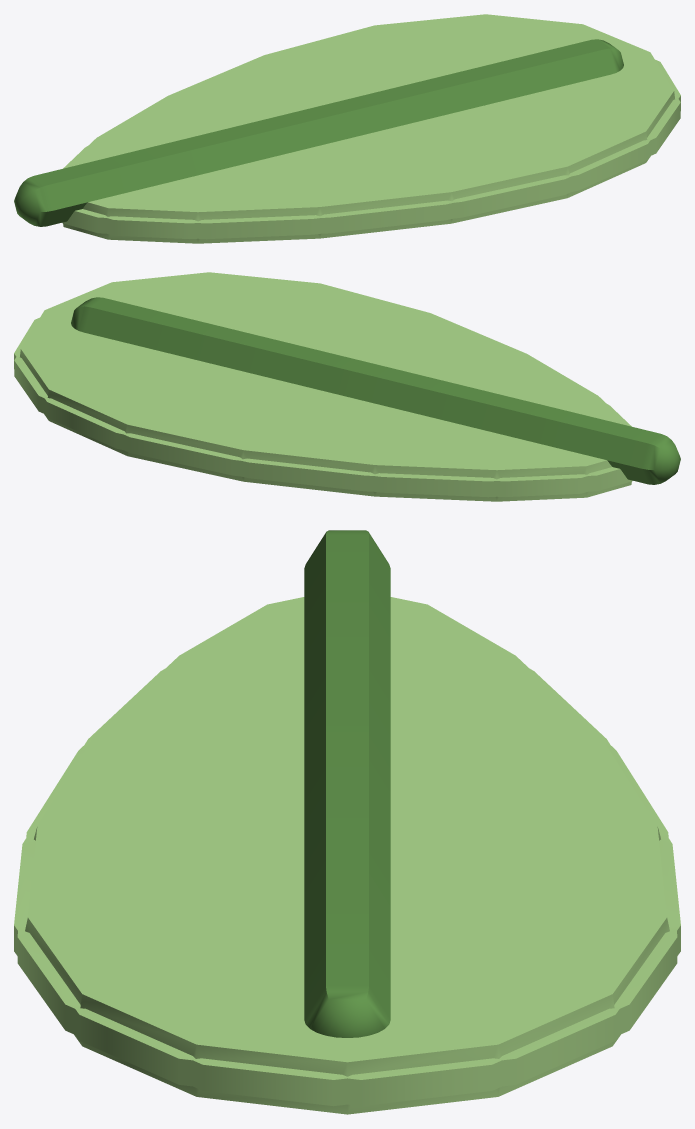
Rendered from wind_leaf.glb.
The picture shows the model from 3 angles, top to bottom: view 1: azimuth 30°, elevation 25°; view 2: azimuth 150°, elevation 25°; view 3: azimuth 270°, elevation 25°; orthographic projection. The views are drawn at different scales.
Parts seen in each view (by area): view 1: WindLeaf; view 2: WindLeaf; view 3: WindLeaf.
Boxes of the visible parts, <box> form: WindLeaf: <box>14,14,680,243</box>; WindLeaf: <box>14,272,680,501</box>; WindLeaf: <box>14,530,680,1114</box>.
Bounding box in the file's own units: 0.1695 × 0.0132 × 0.0925.
